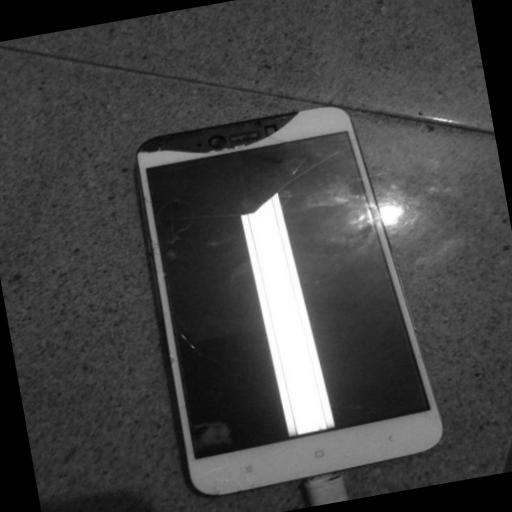phone: (132, 95, 448, 507)
